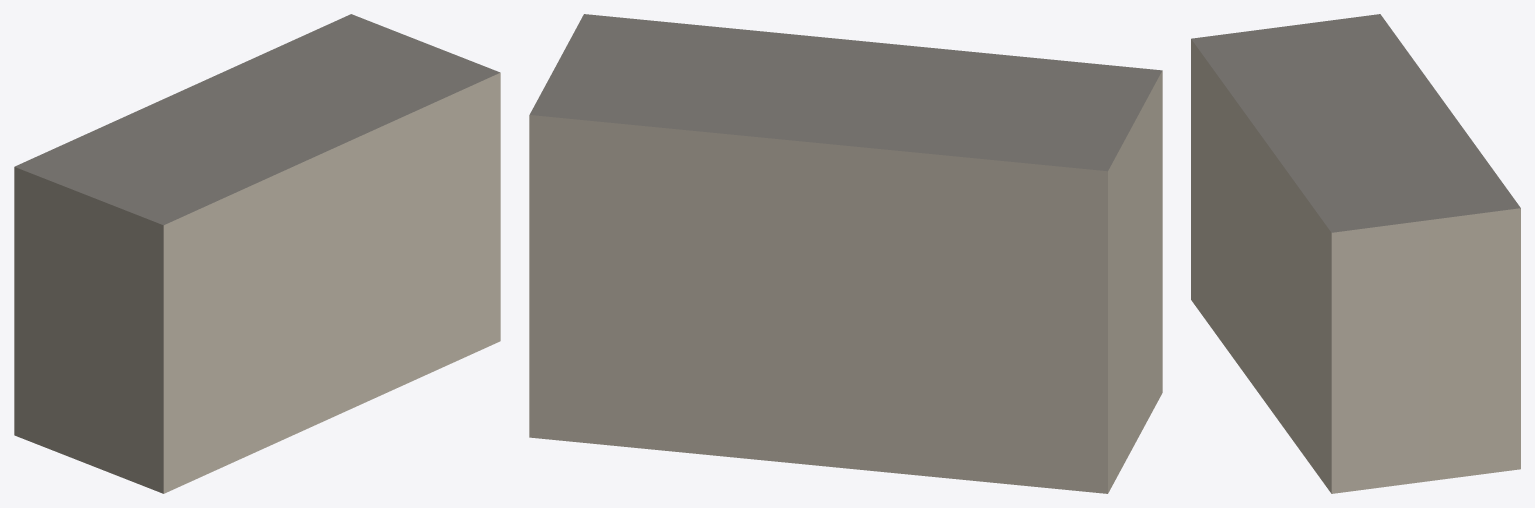
3 renders of one model, left to right at view 1: azimuth 30°, elevation 25°; view 2: azimuth 150°, elevation 25°; view 3: azimuth 270°, elevation 25°, orthographic. The views are drawn at different scales.
Parts seen in each view (by area): view 1: HP-w859488690; view 2: HP-w859488690; view 3: HP-w859488690.
Part boxes in pixels (x1=…): HP-w859488690: x1=14, y1=14, x2=500, y2=493; HP-w859488690: x1=529, y1=14, x2=1162, y2=493; HP-w859488690: x1=1191, y1=14, x2=1520, y2=493.
Size of the model in its own units: 32.35 by 18 by 20.61.
